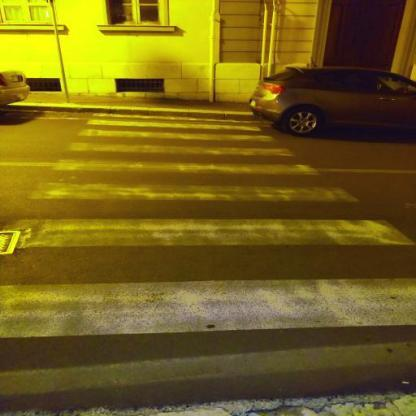crosswalk: (20, 156, 372, 209)
